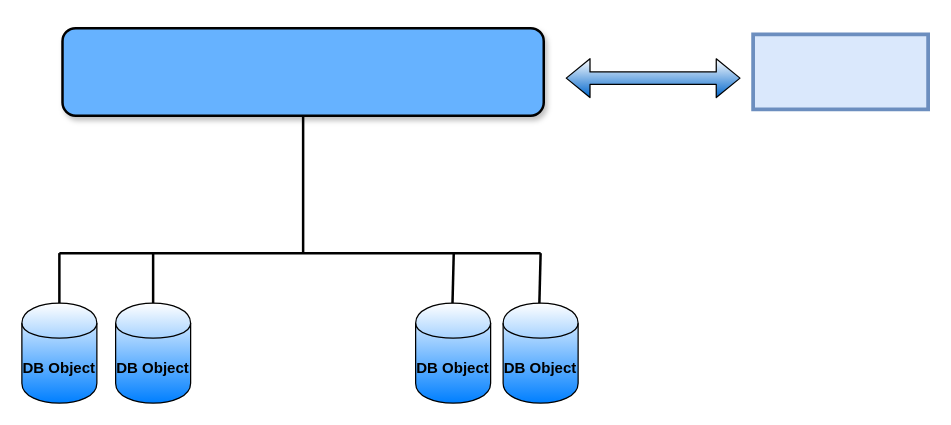
Some shapes in this 951 by 425 pixel diagram are drawn without their labels. Each missing label, with the centre of its shape:
"DBCLI (FrontEnd)" goes at pixel 840 71.
"DBManager (Service)" goes at pixel 304 73.
